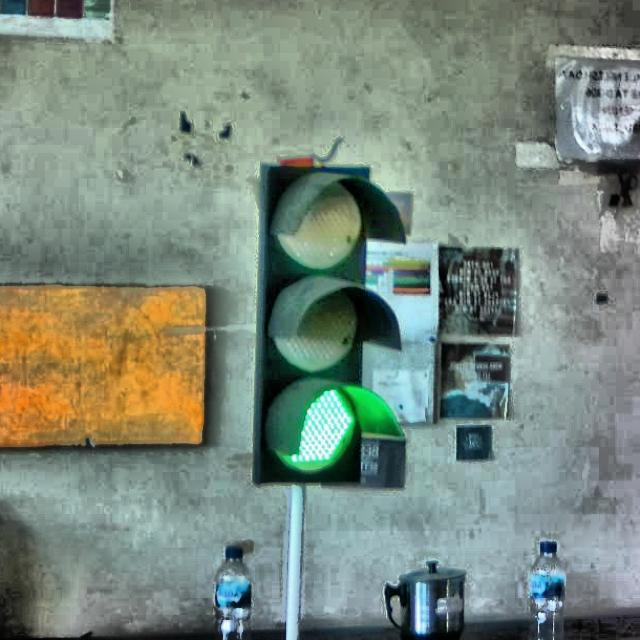green: (249, 165, 406, 488)
